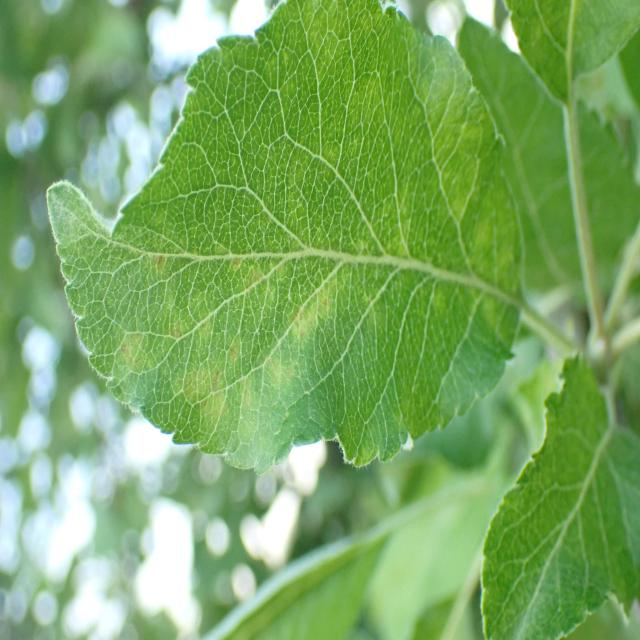scab: (50, 99, 512, 452)
